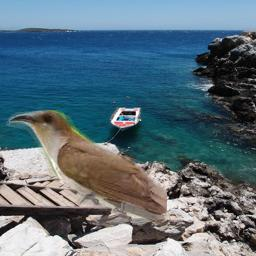Cuckoo: (6, 110, 167, 228)
